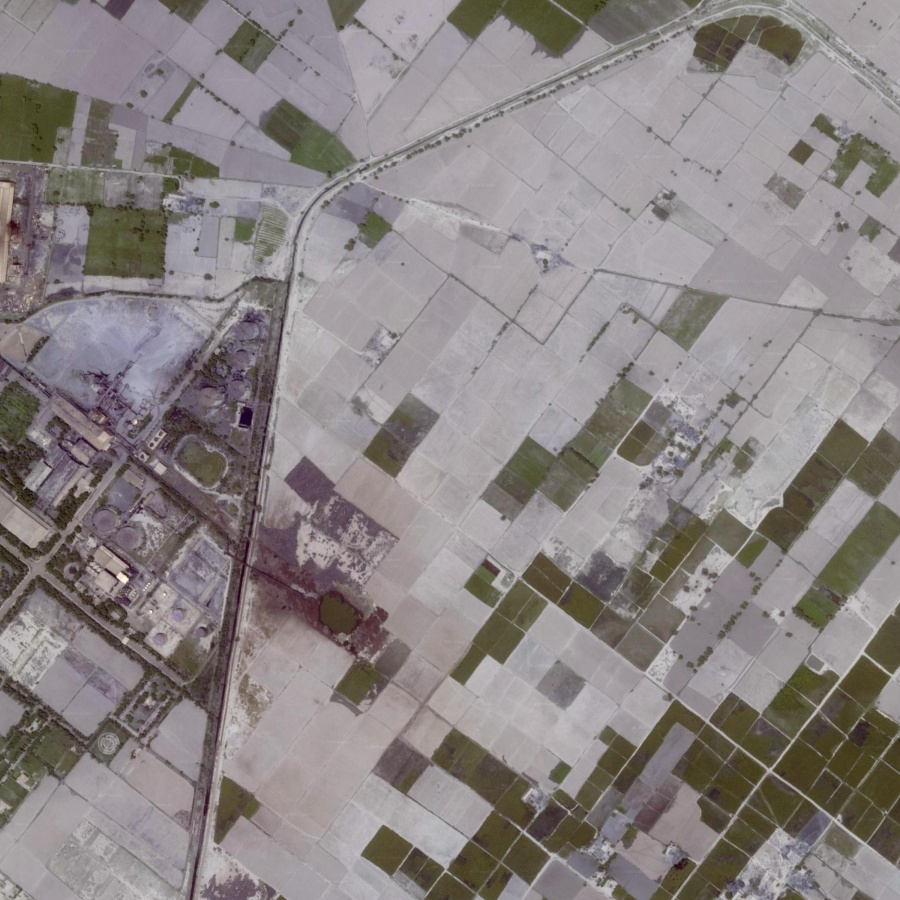PowerPlant: (39, 436, 229, 654)
